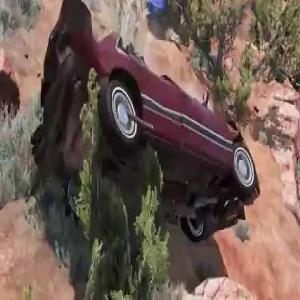serious: (28, 0, 258, 255)
